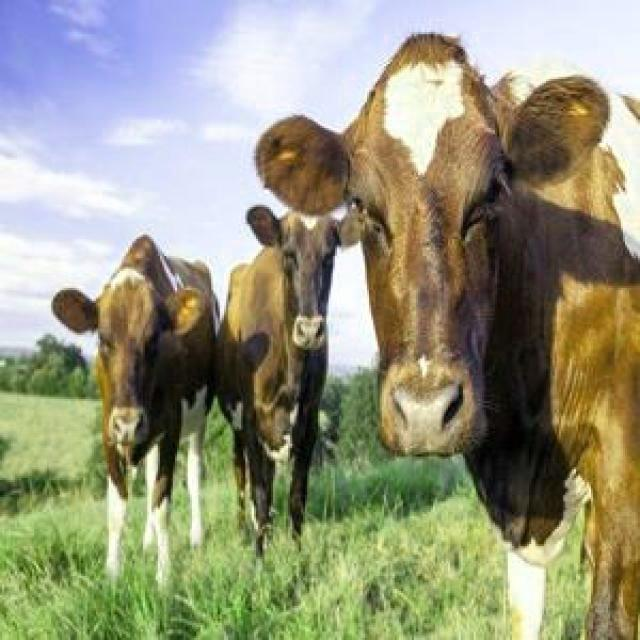cow: (258, 35, 640, 639), (51, 235, 218, 585), (218, 208, 361, 555)
